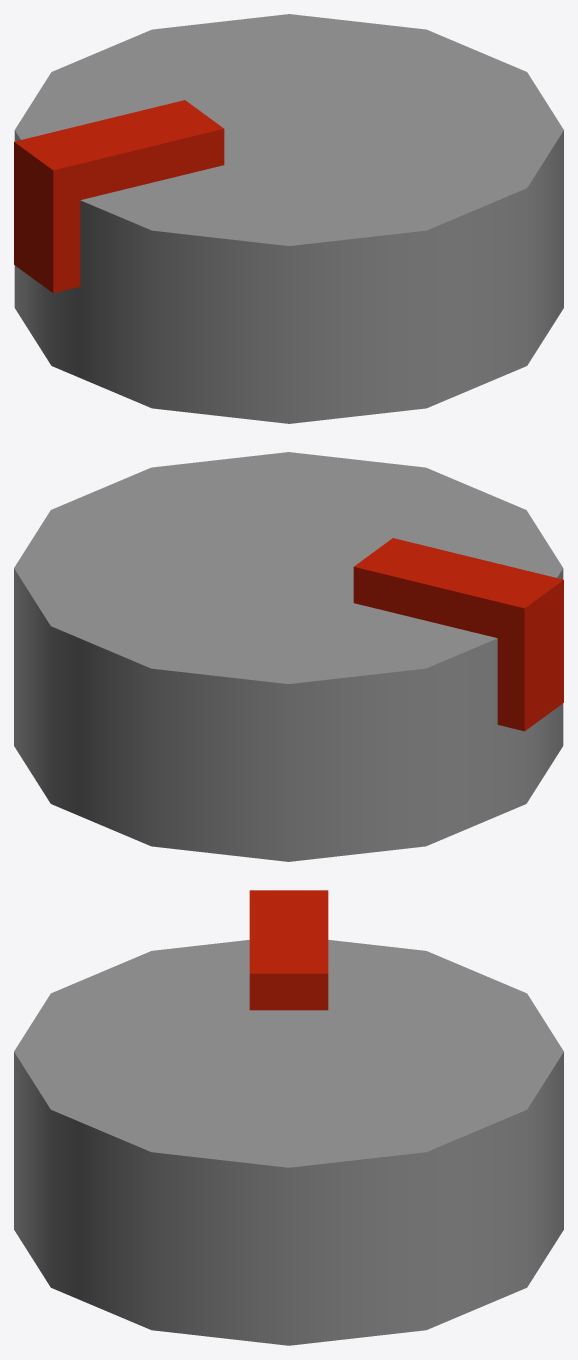
Rendered from knob.fbx.
The picture shows the model from 3 angles, top to bottom: view 1: azimuth 30°, elevation 25°; view 2: azimuth 150°, elevation 25°; view 3: azimuth 270°, elevation 25°; orthographic projection.
Parts seen in each view (by area): view 1: Knob; view 2: Knob; view 3: Knob.
Part boxes in pixels (x1,y1,x2,y2): Knob: [14, 14, 563, 423]; Knob: [14, 452, 563, 861]; Knob: [14, 890, 563, 1345].
Size of the model in its own units: 14.53 by 6.02 by 14.
